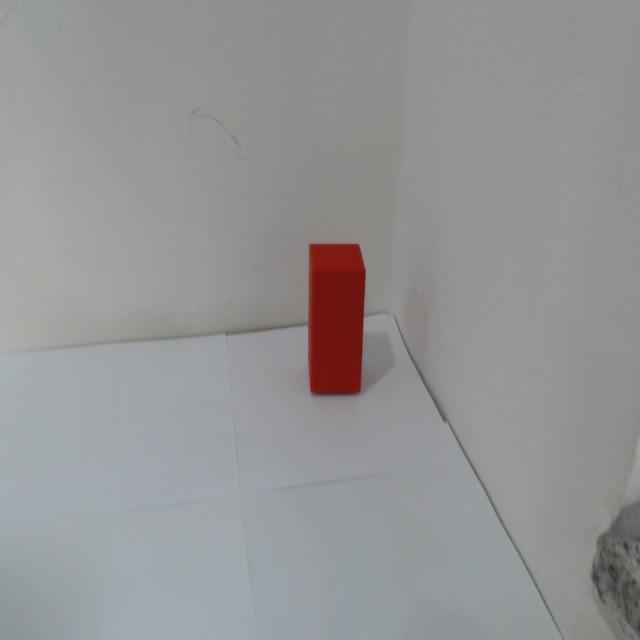cube: (306, 242, 366, 395)
